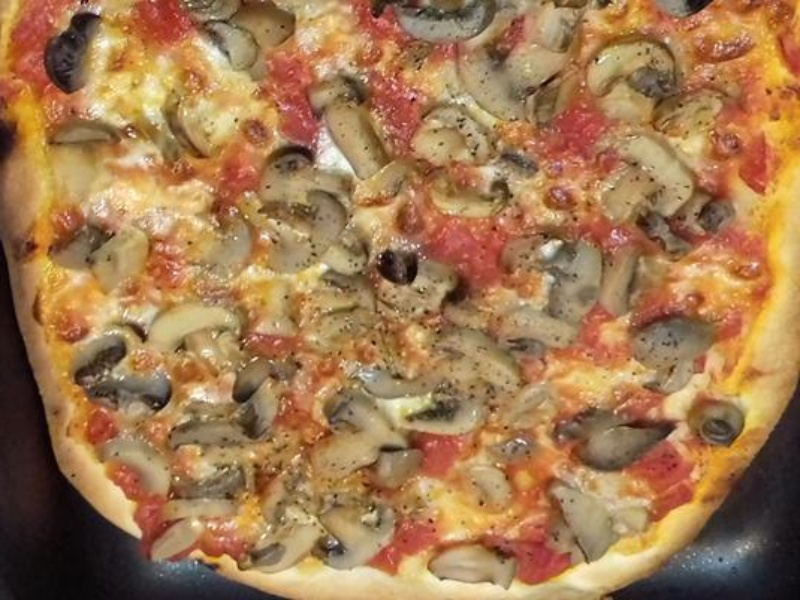champignon: (142, 292, 244, 381), (309, 492, 404, 573), (251, 142, 353, 215)
